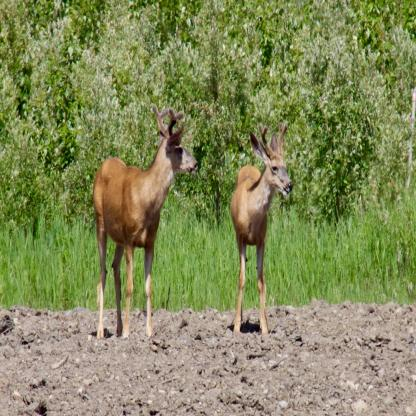Deer: (90, 100, 200, 343), (227, 118, 295, 345)
